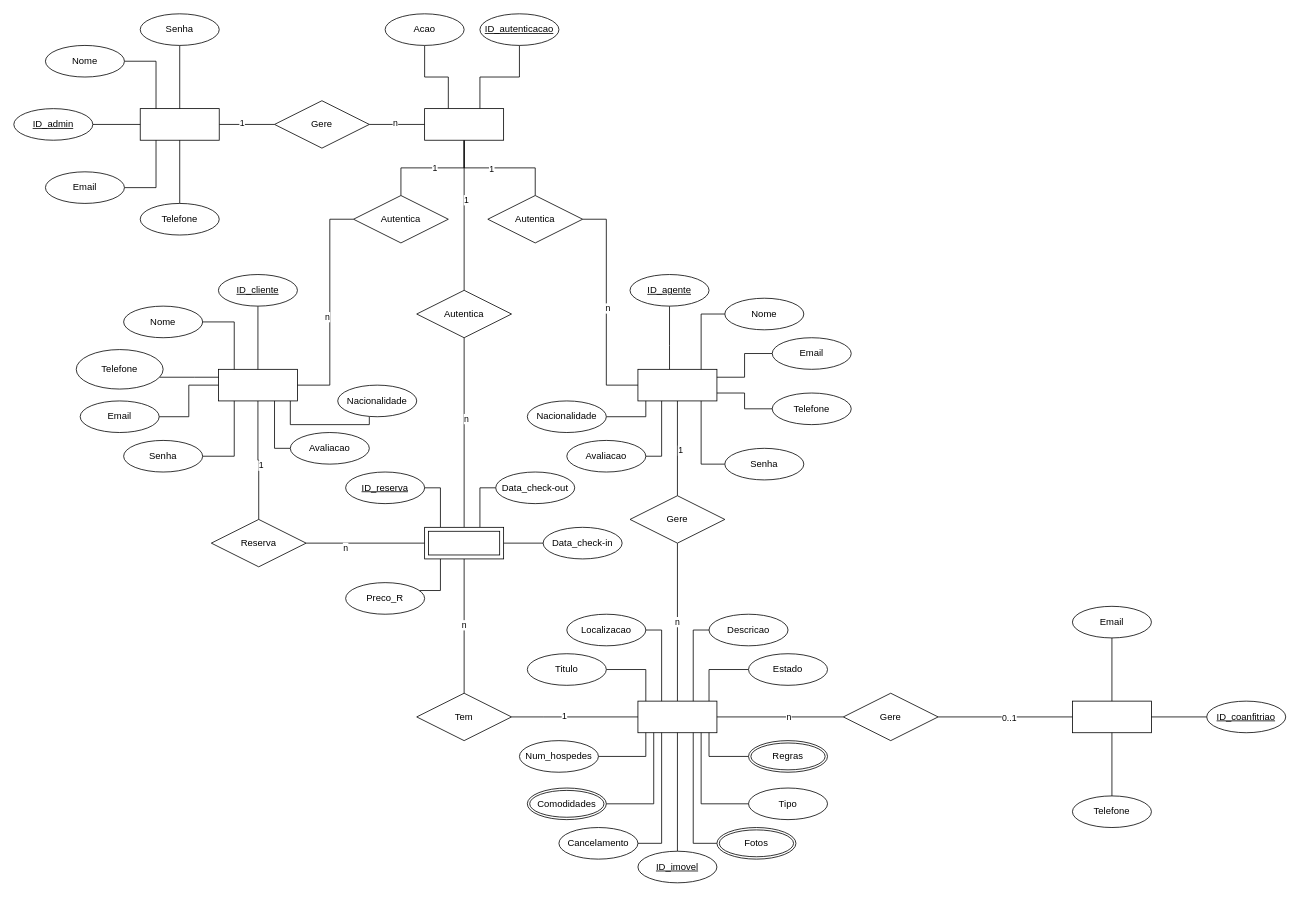
Image size: 1300x897. Some labels were removed from this diagram. The box of each missing label's shape, as (x1, y1, x2, y2) in pixels:
Administrador: (139, 108, 219, 140)
Agente: (637, 369, 717, 401)
Autenticacao: (424, 108, 504, 140)
Cliente: (218, 369, 297, 401)
Coanfitriao: (1072, 700, 1151, 733)
Imovel: (637, 700, 717, 733)
Reservas: (424, 527, 504, 559)
